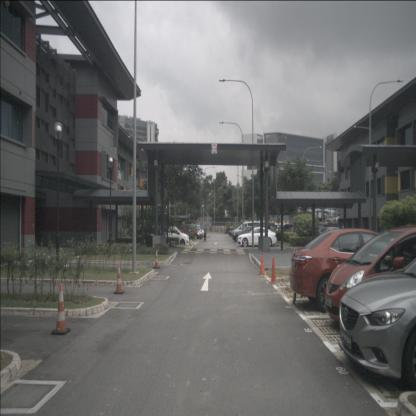human-pedestrian-adult: (204, 224, 207, 242)
movable_object-trafficcone: (51, 283, 71, 335), (114, 262, 124, 294), (269, 256, 278, 284), (258, 251, 266, 275), (153, 248, 161, 269)
vehicle-car: (289, 228, 416, 314), (338, 255, 416, 393), (324, 224, 416, 333), (237, 226, 278, 248), (236, 224, 272, 245), (316, 226, 350, 247), (158, 226, 190, 248), (232, 221, 260, 243), (233, 226, 264, 242), (181, 224, 203, 240), (179, 225, 201, 240), (185, 224, 207, 238), (283, 224, 302, 240)
vehicle-truck: (327, 214, 343, 224)
